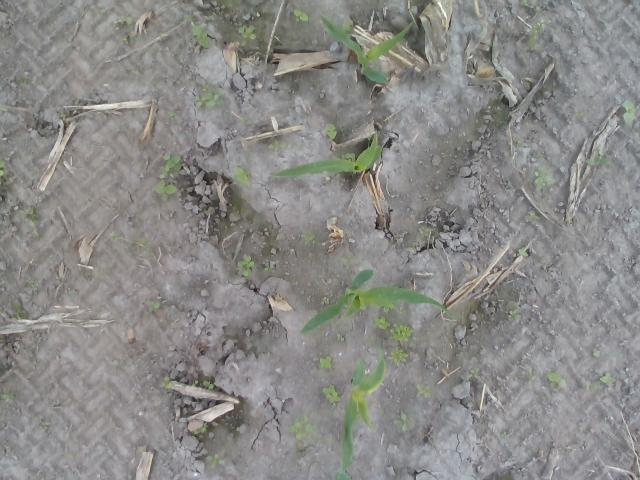Maize: (300, 268, 460, 335), (320, 13, 414, 84), (336, 354, 385, 480), (270, 130, 385, 181)
Weeds: (368, 315, 416, 366), (154, 150, 187, 201), (14, 206, 41, 241), (192, 83, 225, 109), (113, 15, 137, 48), (534, 165, 561, 193), (287, 415, 316, 441), (392, 412, 417, 434), (321, 382, 342, 408), (190, 21, 208, 49), (528, 19, 545, 48), (127, 238, 153, 256), (238, 254, 257, 278), (231, 165, 251, 187), (238, 24, 256, 48), (545, 370, 568, 387), (267, 138, 289, 154), (622, 99, 636, 124), (206, 452, 225, 470), (415, 382, 432, 400), (292, 8, 311, 24), (144, 298, 160, 316), (323, 122, 337, 140), (527, 367, 537, 392), (304, 230, 318, 247), (0, 392, 19, 404), (510, 303, 522, 322), (14, 304, 28, 320), (318, 356, 334, 370), (194, 425, 208, 440), (0, 158, 8, 184), (585, 158, 610, 166), (418, 224, 430, 240), (528, 208, 540, 224), (599, 374, 618, 384), (338, 152, 356, 162), (247, 0, 257, 17), (23, 278, 40, 288), (468, 366, 481, 379), (258, 226, 271, 238), (160, 376, 171, 390), (532, 0, 541, 17), (582, 383, 600, 391), (381, 302, 395, 312), (111, 231, 125, 241), (202, 380, 215, 390), (320, 296, 334, 305), (398, 307, 408, 319), (341, 22, 353, 32), (16, 78, 30, 86), (264, 262, 273, 274), (68, 288, 78, 298), (167, 110, 177, 120), (336, 333, 346, 343), (407, 243, 417, 253), (518, 246, 528, 256), (536, 151, 546, 161), (466, 135, 477, 144), (204, 14, 216, 22), (39, 422, 48, 432), (58, 111, 68, 120), (0, 103, 10, 112), (239, 116, 248, 125), (512, 136, 520, 145), (592, 350, 600, 359), (519, 0, 529, 7), (576, 112, 584, 120), (344, 303, 352, 310), (496, 91, 505, 97), (192, 380, 200, 386)
